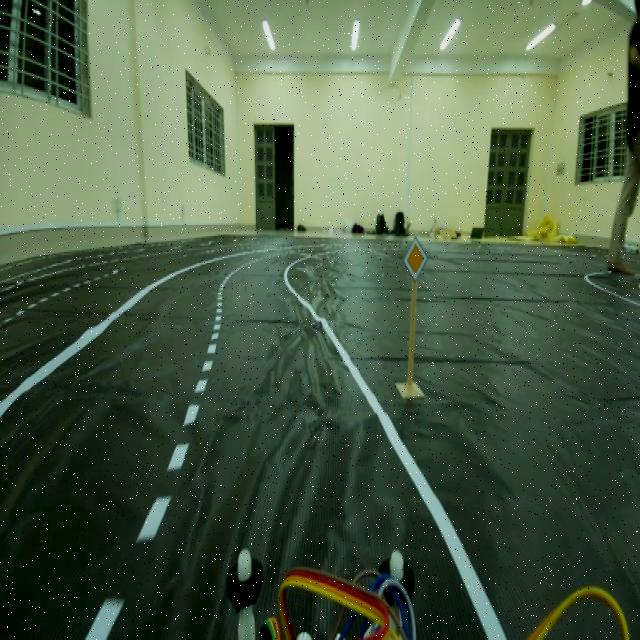priority: (400, 226, 426, 290)
